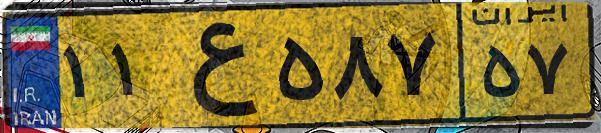1: (57, 26, 110, 100), (110, 28, 158, 98)
5: (270, 28, 330, 110), (475, 38, 525, 113)
7: (385, 28, 445, 110), (525, 38, 570, 115)
8: (330, 28, 385, 110)
ع: (158, 12, 270, 120)
